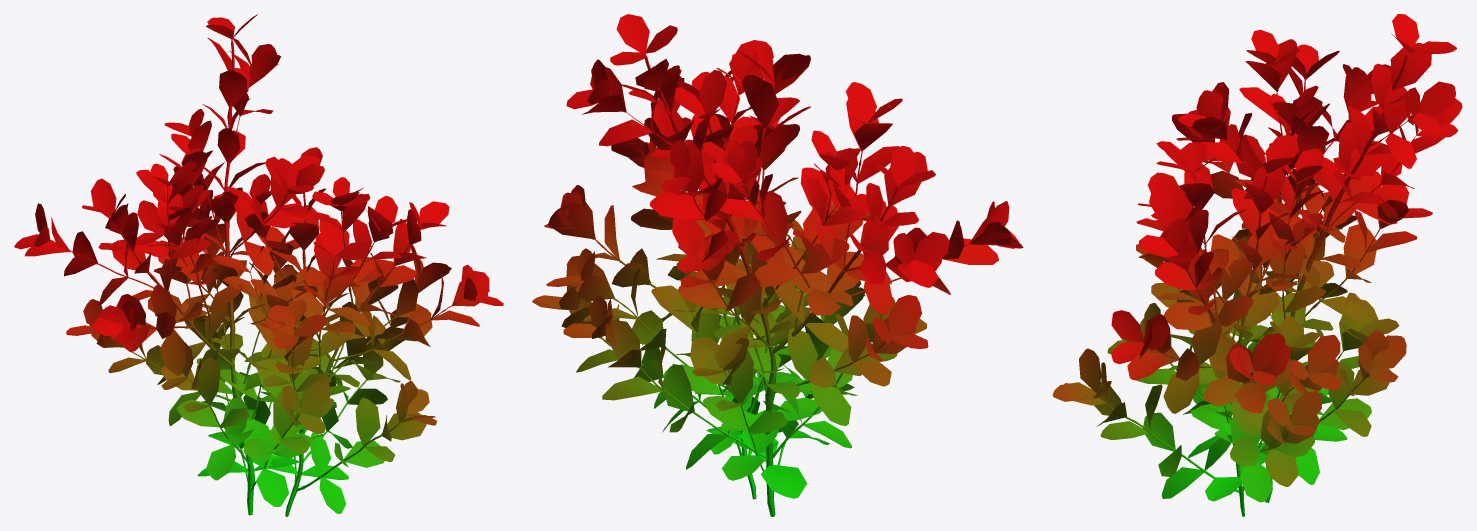
File: Var10_LOD1.fbx
3 views of the same model, side by side, from view 1: azimuth 30°, elevation 25°; view 2: azimuth 150°, elevation 25°; view 3: azimuth 270°, elevation 25° (orthographic). The views are drawn at different scales.
Parts seen in each view (by area): view 1: _14bb_Var10_LOD1; view 2: _14bb_Var10_LOD1; view 3: _14bb_Var10_LOD1.
Boxes of the visible parts, box(x1,y1,x2,y2) form: _14bb_Var10_LOD1: box(14, 14, 503, 516); _14bb_Var10_LOD1: box(532, 14, 1023, 516); _14bb_Var10_LOD1: box(1052, 14, 1462, 516).
Bounding box in the file's own units: 15.63 × 17.71 × 13.15.
